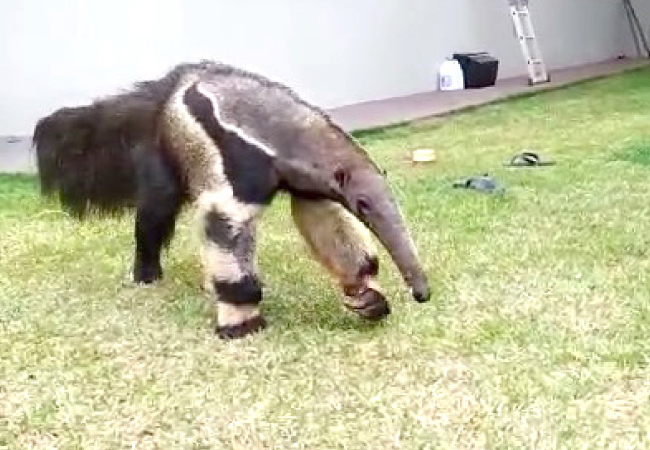TamanduaBandeira: (31, 55, 440, 342)
